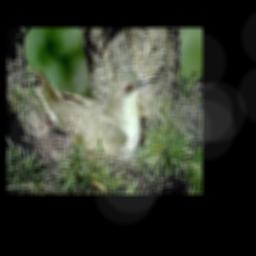Cuckoo: (38, 68, 160, 158)
